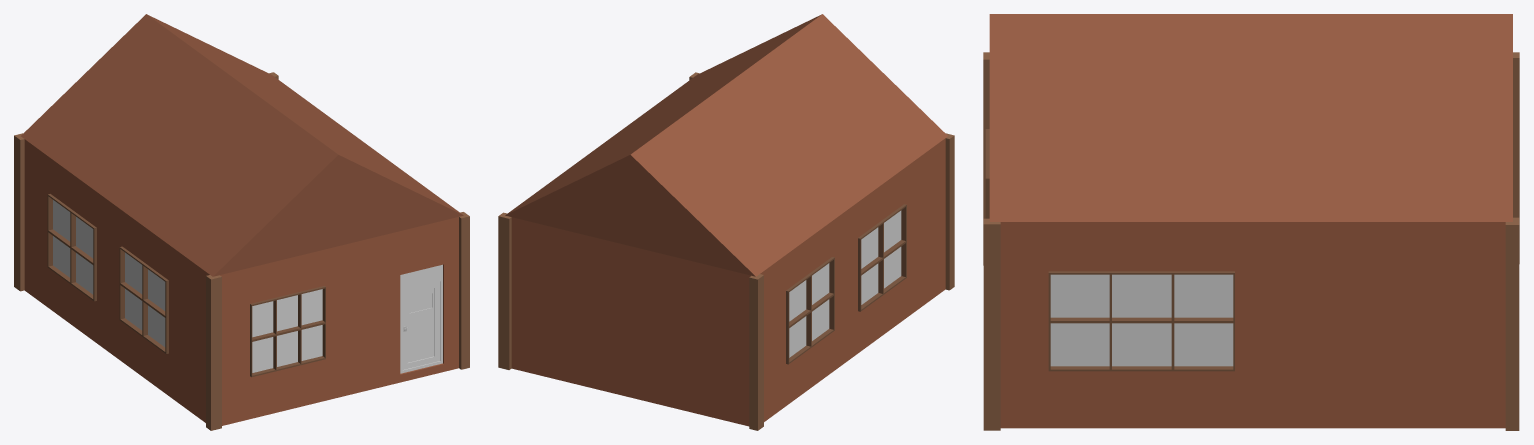
The model's file is House_20.fbx.
3 views of the same model, side by side, from view 1: azimuth 30°, elevation 25°; view 2: azimuth 150°, elevation 25°; view 3: azimuth 270°, elevation 25° (orthographic). The views are drawn at different scales.
Parts seen in each view (by area): view 1: House_20_Body; view 2: House_20_Body; view 3: House_20_Body.
Part boxes in pixels (x1=…): House_20_Body: x1=14, y1=14, x2=469, y2=430; House_20_Body: x1=498, y1=14, x2=954, y2=430; House_20_Body: x1=983, y1=14, x2=1519, y2=430.
Bounding box in the file's own units: 746 × 667 × 980.
